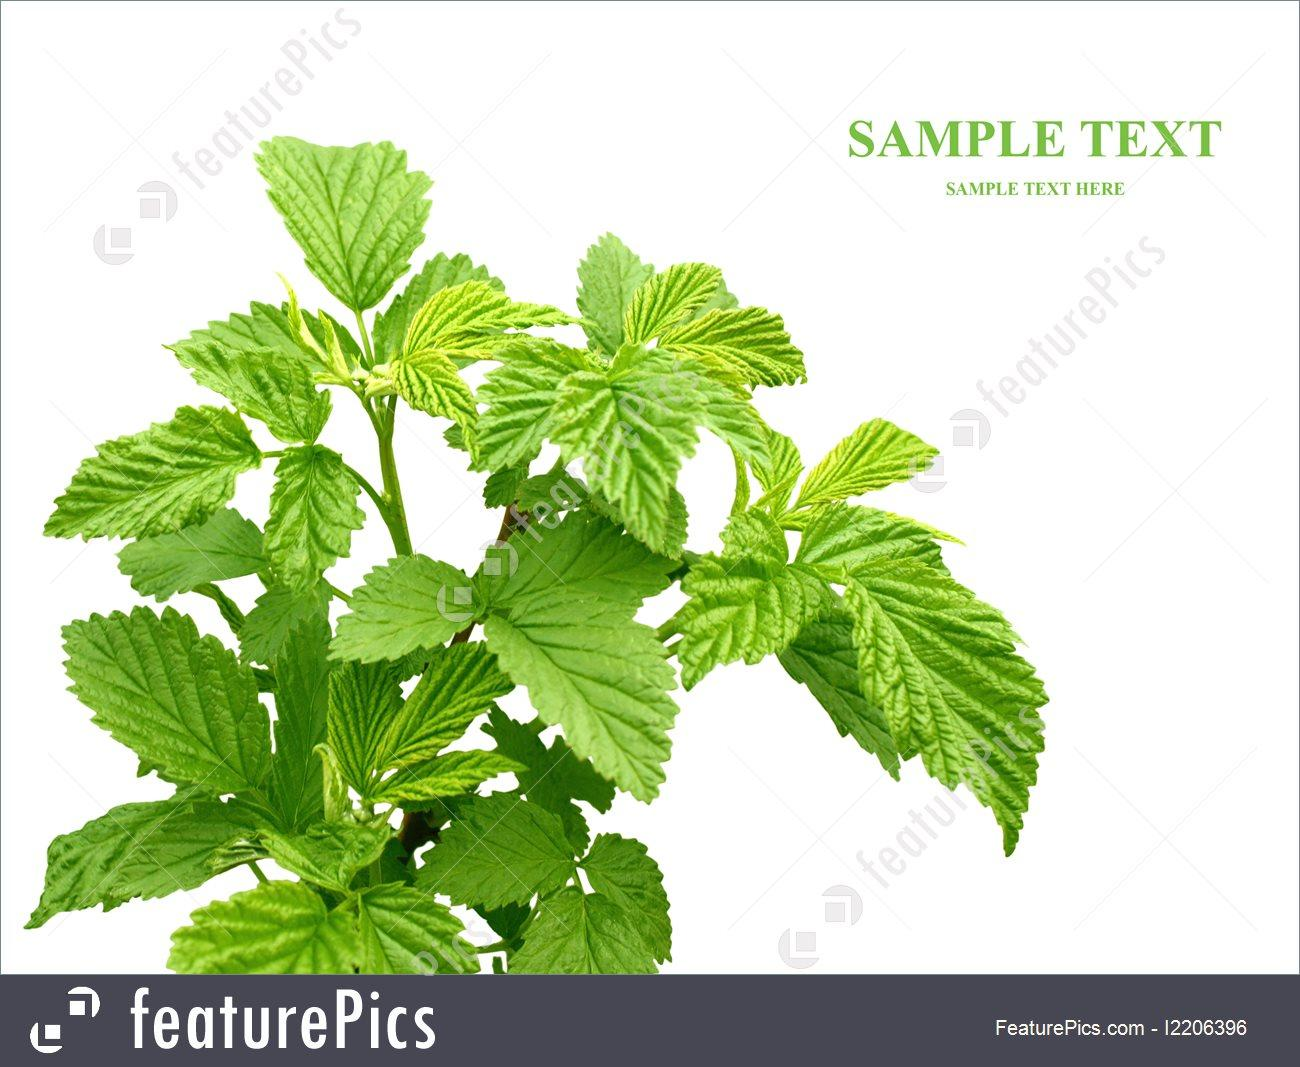Raspberry leaf: (832, 565, 1050, 860), (480, 581, 681, 815), (66, 606, 281, 795), (549, 351, 708, 565), (259, 132, 433, 305), (38, 406, 262, 539), (478, 503, 686, 606), (671, 550, 804, 706), (329, 551, 495, 666), (795, 512, 963, 587)
